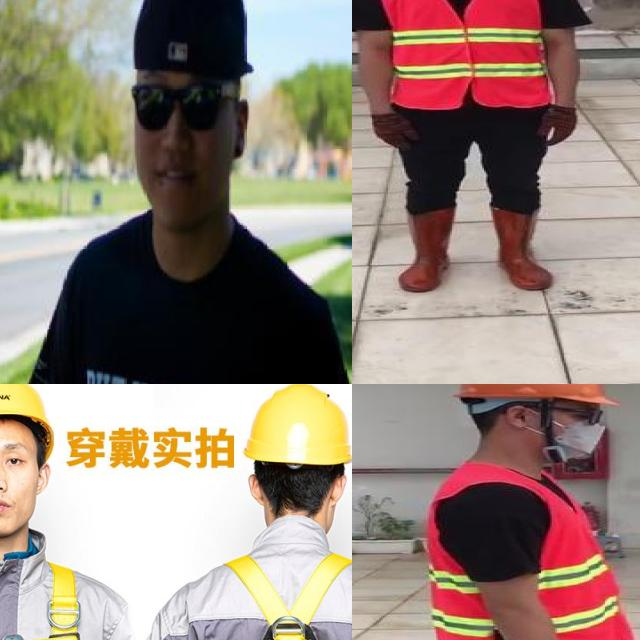Harness: (198, 551, 352, 640)
boots: (491, 209, 552, 292), (397, 210, 459, 291)
face_mask: (542, 401, 620, 462)
face_nomask: (131, 84, 232, 194)
glasses: (127, 70, 245, 140)
hand_glove: (371, 110, 416, 148), (536, 106, 578, 145)
head_helmet: (457, 384, 601, 408)
head_nohelmet: (126, 0, 257, 85)
person: (21, 0, 352, 384), (352, 0, 595, 304), (414, 384, 640, 640)
vest: (430, 459, 631, 640), (380, 0, 551, 108)
